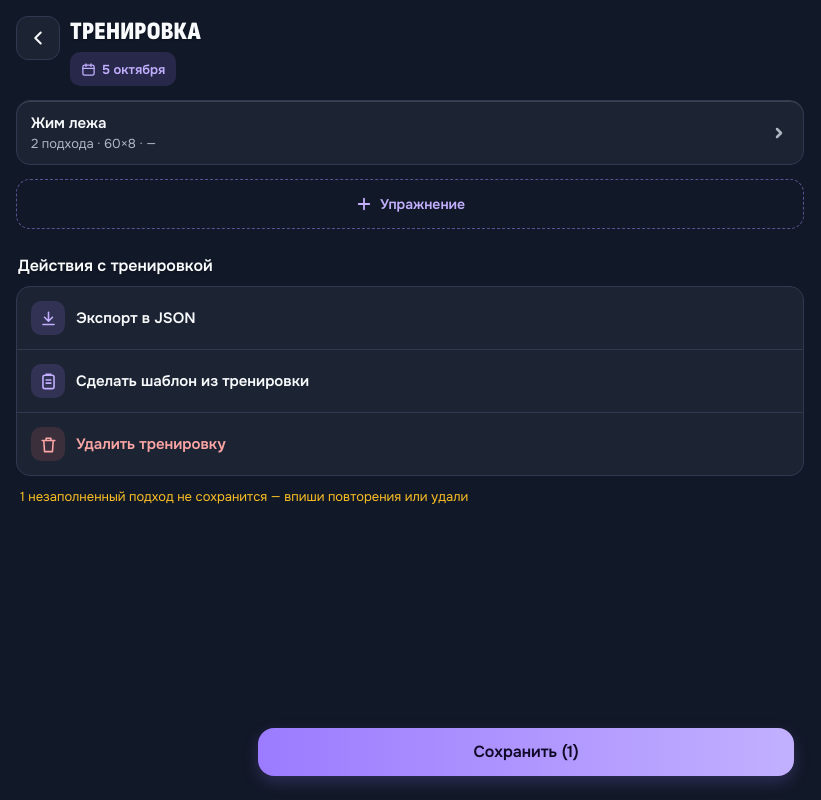
действия существующей тренировки › удаление без сети — без синка; ошибка — баннер и экран остается
Click the button "Удалить тренировку" at [48, 444], box [17,412,803,475]
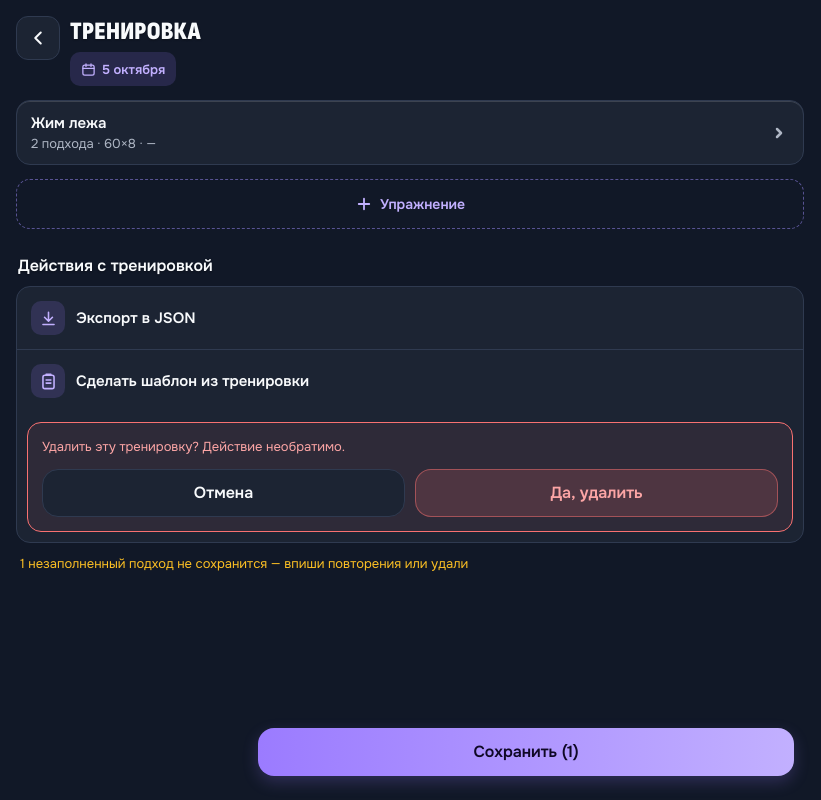
Click the button "Да, удалить" at [596, 492], box [415,468,778,516]
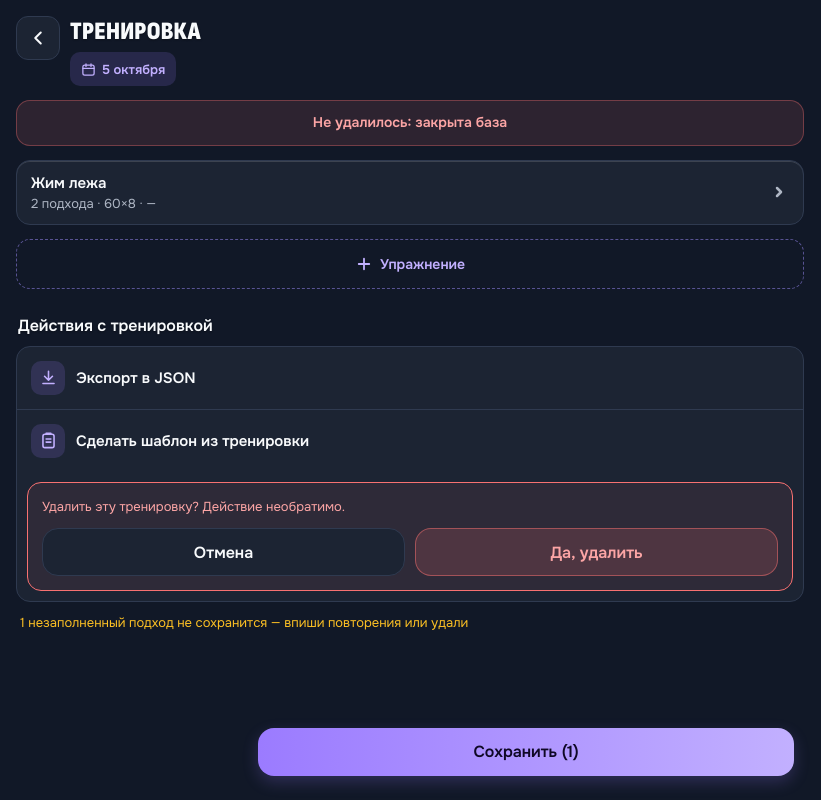
Expected: the text "Не удалилось: закрыта база" is shown, [16,100,804,146]
